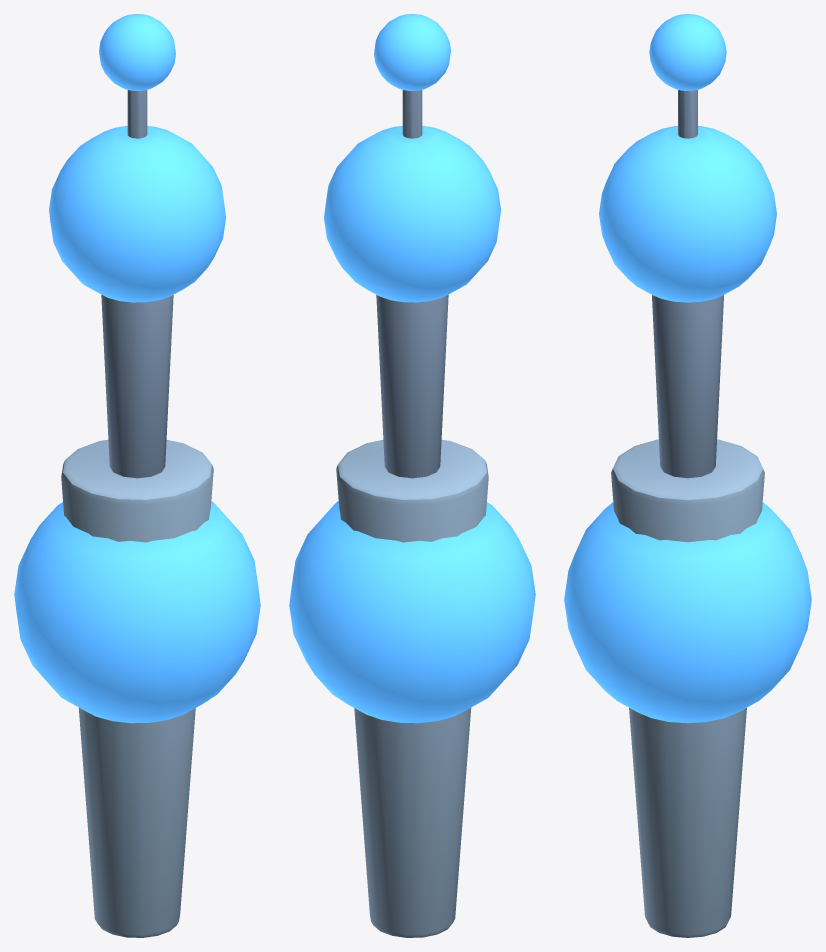
3 renders of one model, left to right at view 1: azimuth 30°, elevation 25°; view 2: azimuth 150°, elevation 25°; view 3: azimuth 270°, elevation 25°, orthographic.
Visible parts, largest first — view 1: landmark_d6421cbd; view 2: landmark_d6421cbd; view 3: landmark_d6421cbd.
Part boxes in pixels (box(x1,y1,x2,y2)): landmark_d6421cbd: box(14, 14, 260, 937); landmark_d6421cbd: box(289, 14, 535, 937); landmark_d6421cbd: box(564, 14, 811, 937).
Bounding box in the file's own units: 3.2 × 12.9 × 3.2.
